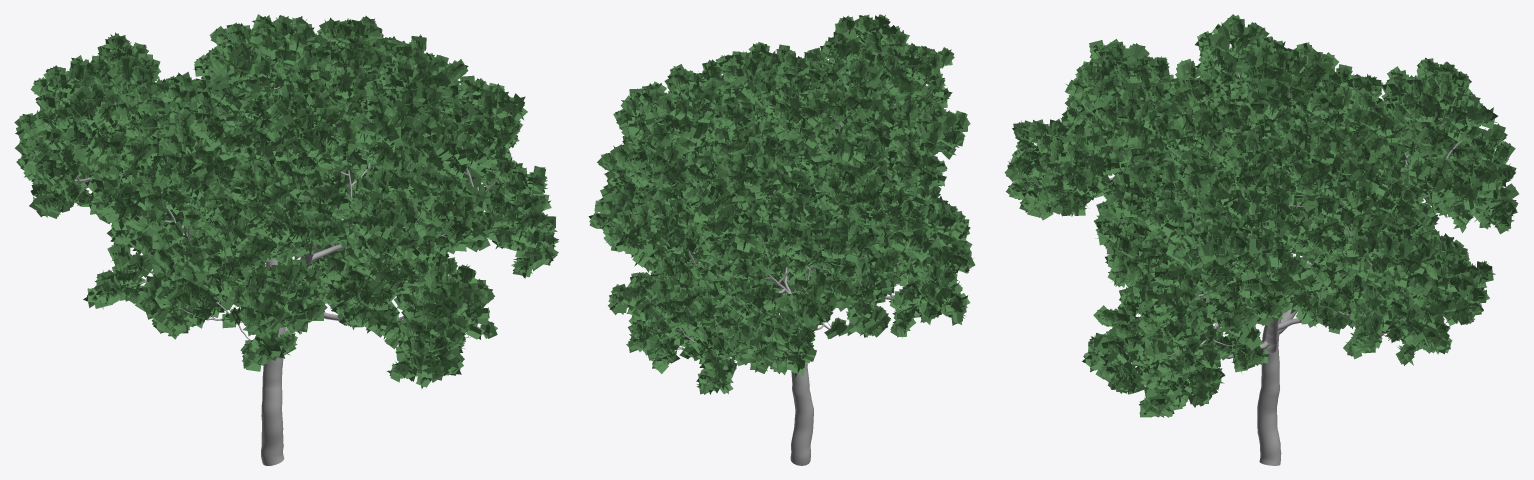
Rendered from Pinus Brutia 4l.fbx.
The picture shows the model from 3 angles, left to right: view 1: azimuth 30°, elevation 25°; view 2: azimuth 150°, elevation 25°; view 3: azimuth 270°, elevation 25°; orthographic projection. The views are drawn at different scales.
Visible parts, largest first — view 1: Pinus Brutia 4l; view 2: Pinus Brutia 4l; view 3: Pinus Brutia 4l.
Boxes of the visible parts, x1,y1,x2,y2 form: Pinus Brutia 4l: [14, 14, 558, 465]; Pinus Brutia 4l: [588, 14, 975, 465]; Pinus Brutia 4l: [1004, 14, 1518, 465].
Size of the model in its own units: 892 by 907 by 989.
